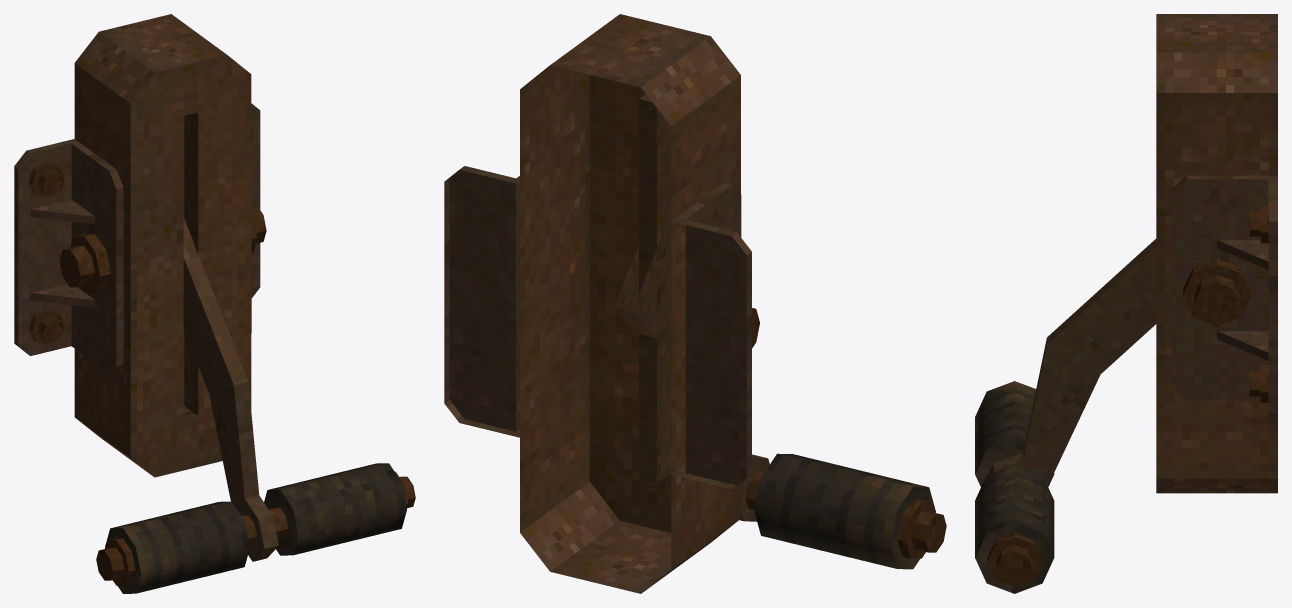
File: lever_etx_8.glb
3 renders of one model, left to right at view 1: azimuth 30°, elevation 25°; view 2: azimuth 150°, elevation 25°; view 3: azimuth 270°, elevation 25°, orthographic. The views are drawn at different scales.
Visible parts, largest first — view 1: lever_etx_8, lever_etx_8_child; view 2: lever_etx_8, lever_etx_8_child; view 3: lever_etx_8, lever_etx_8_child.
Part boxes in pixels (x1,y1,x2,y2): lever_etx_8: [14, 14, 266, 477]; lever_etx_8_child: [96, 218, 415, 593]; lever_etx_8: [444, 14, 759, 593]; lever_etx_8_child: [614, 244, 946, 569]; lever_etx_8: [1156, 14, 1277, 493]; lever_etx_8_child: [975, 239, 1156, 593].
Bounding box in the file's own units: 0.2254 × 0.3201 × 0.1792.
Materials: 1 (1 with a texture image).
